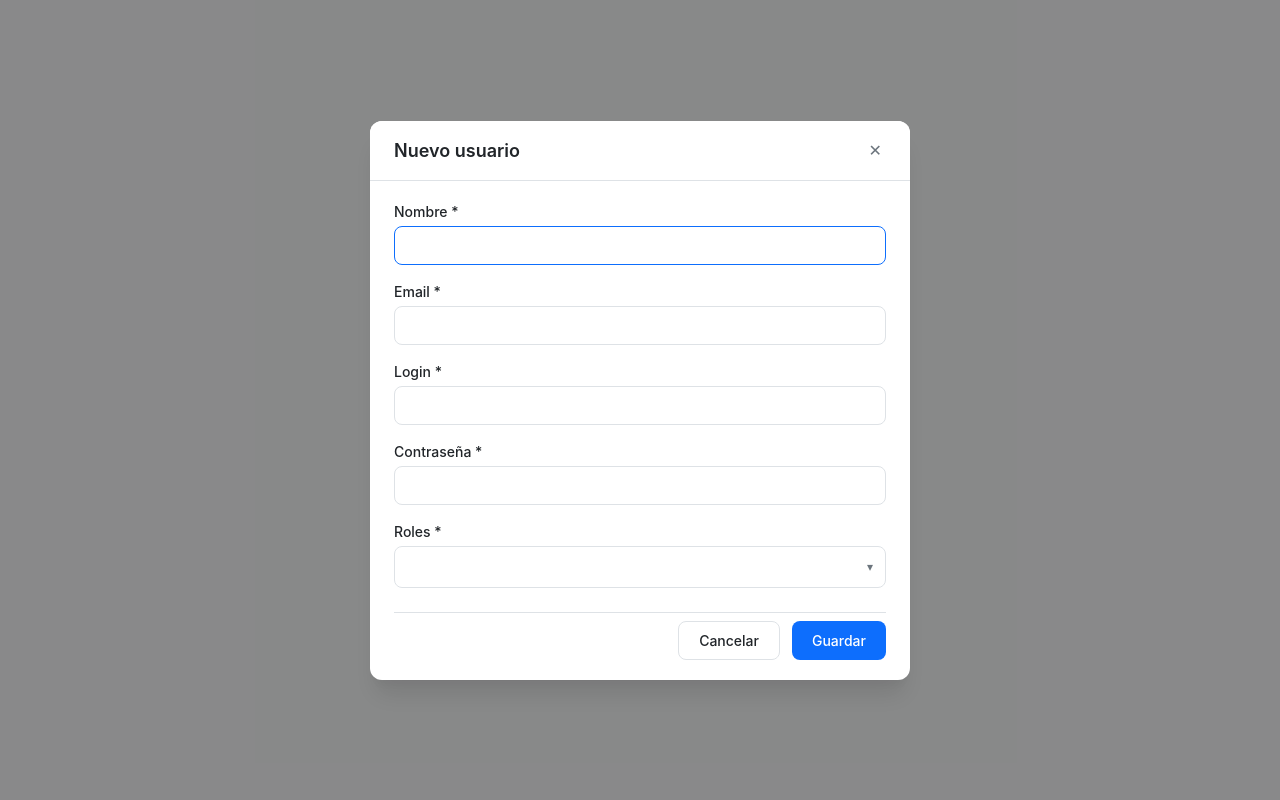
Test: RbacUserModal › falls back to the generic banner only when the backend sends no message
Type "Juan Mosca" into the field labelled "Nombre *" at (640, 245), box [394,226,886,264]
Type "juanmosca@ipnext.net.ar" into the field labelled "Email *" at (640, 325), box [394,306,886,344]
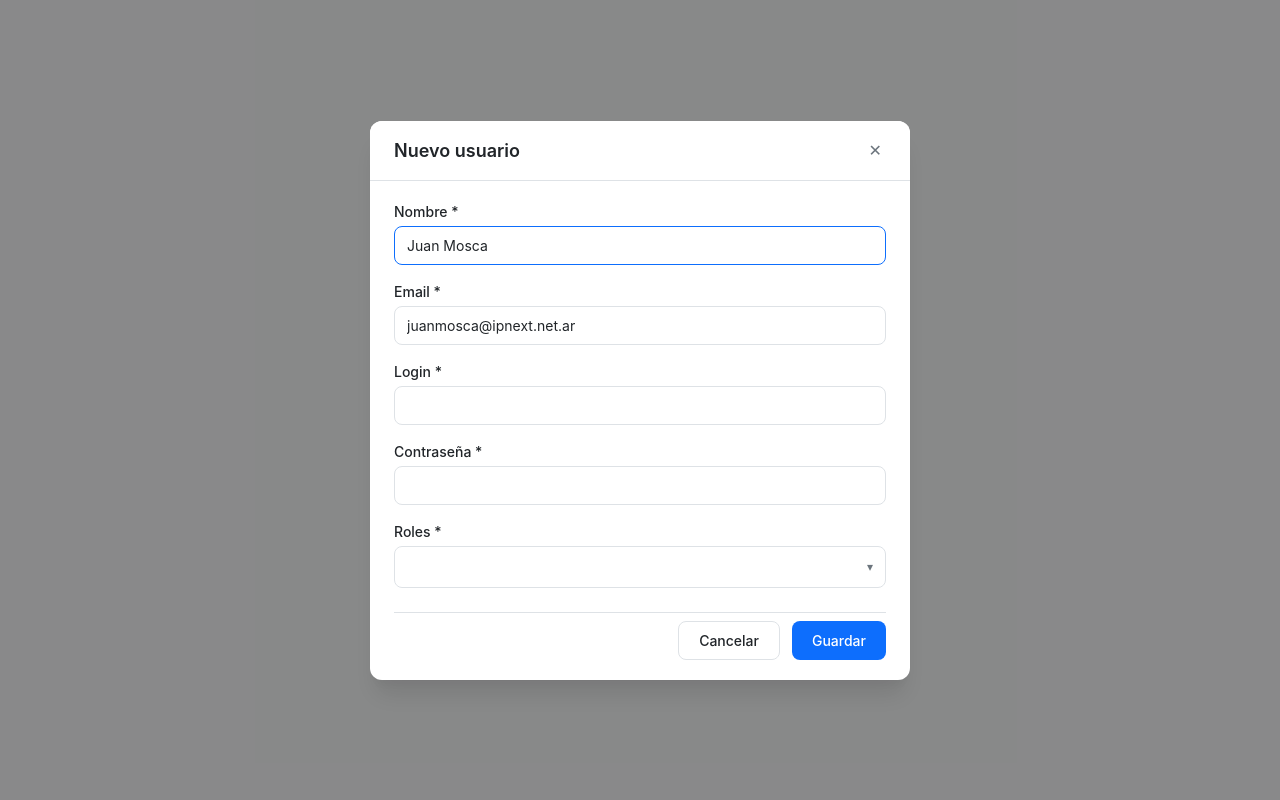
Type "JuanM" into the field labelled "Login *" at (640, 405), box [394,386,886,424]
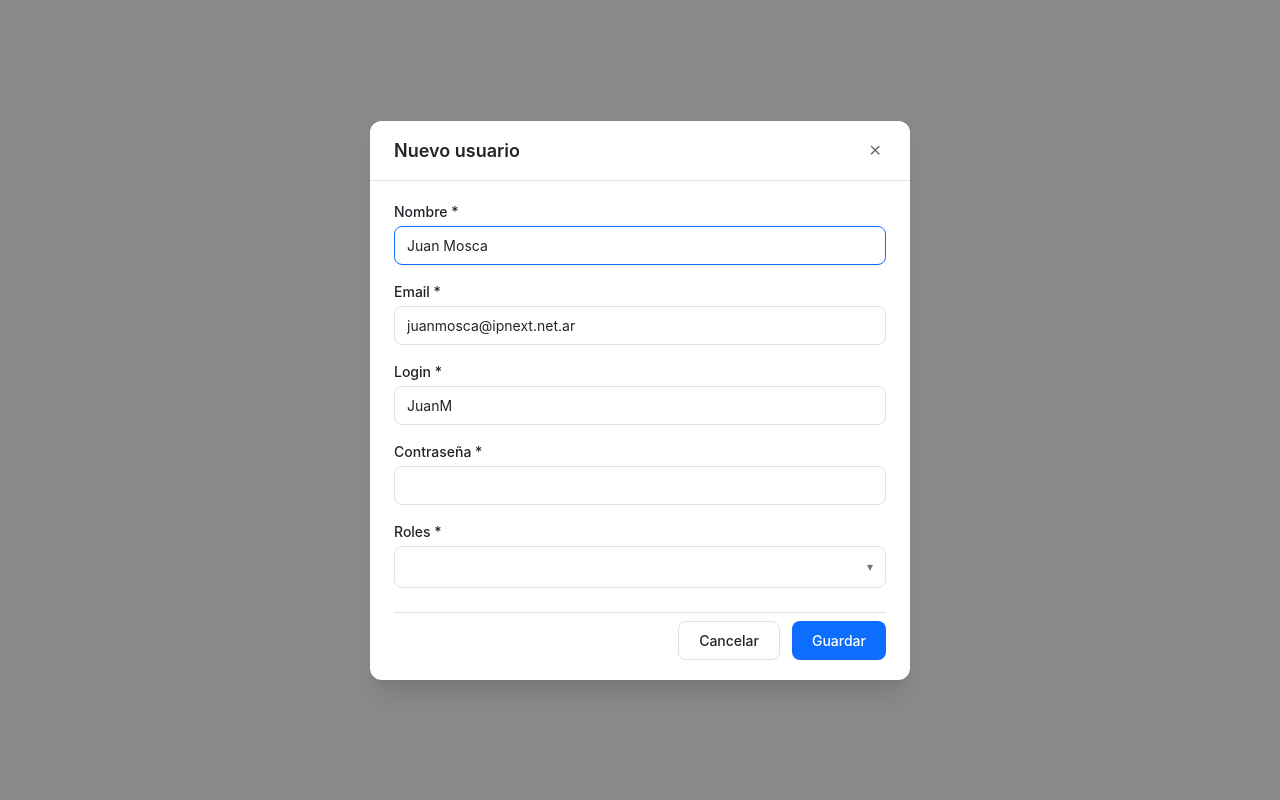
Type "Password123" into the password field labelled "Contraseña *" at (640, 485), box [394,466,886,504]
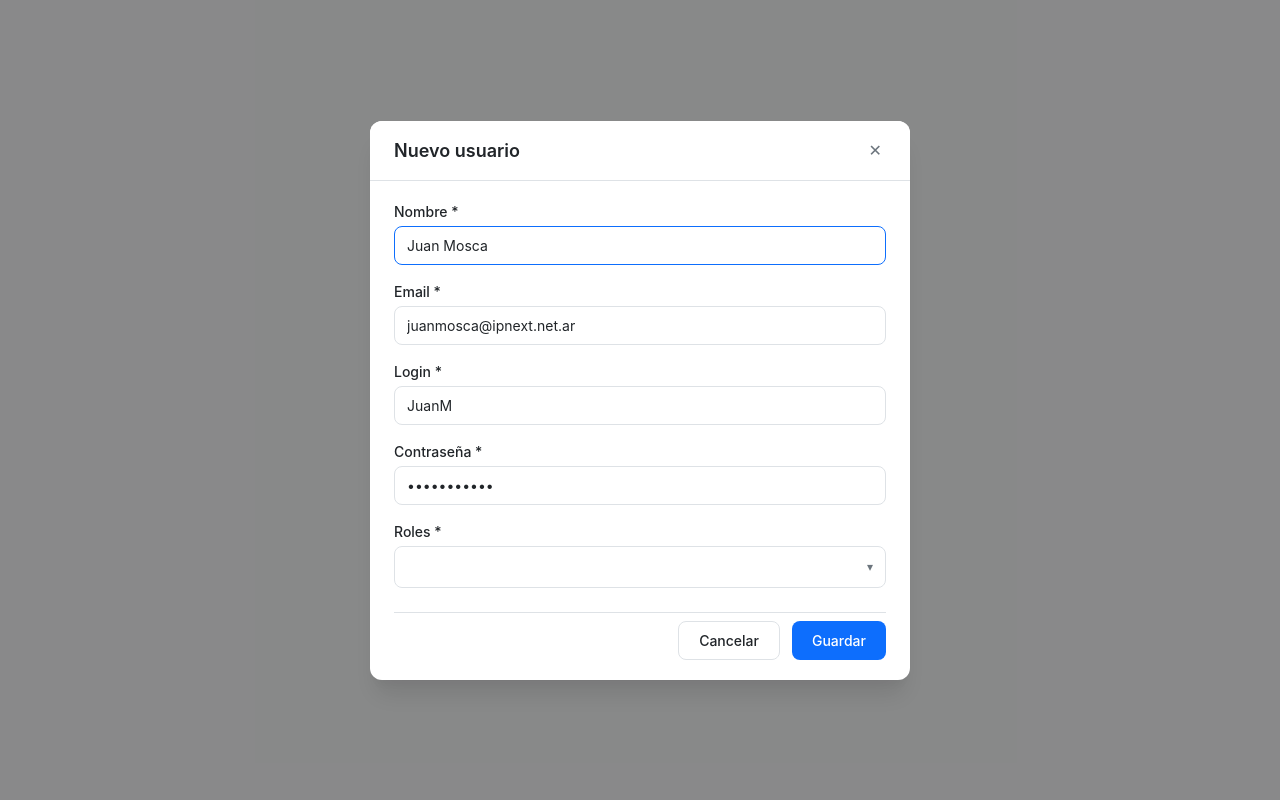
Click the button named "seleccionar roles" at (870, 566), box [863,558,877,576]
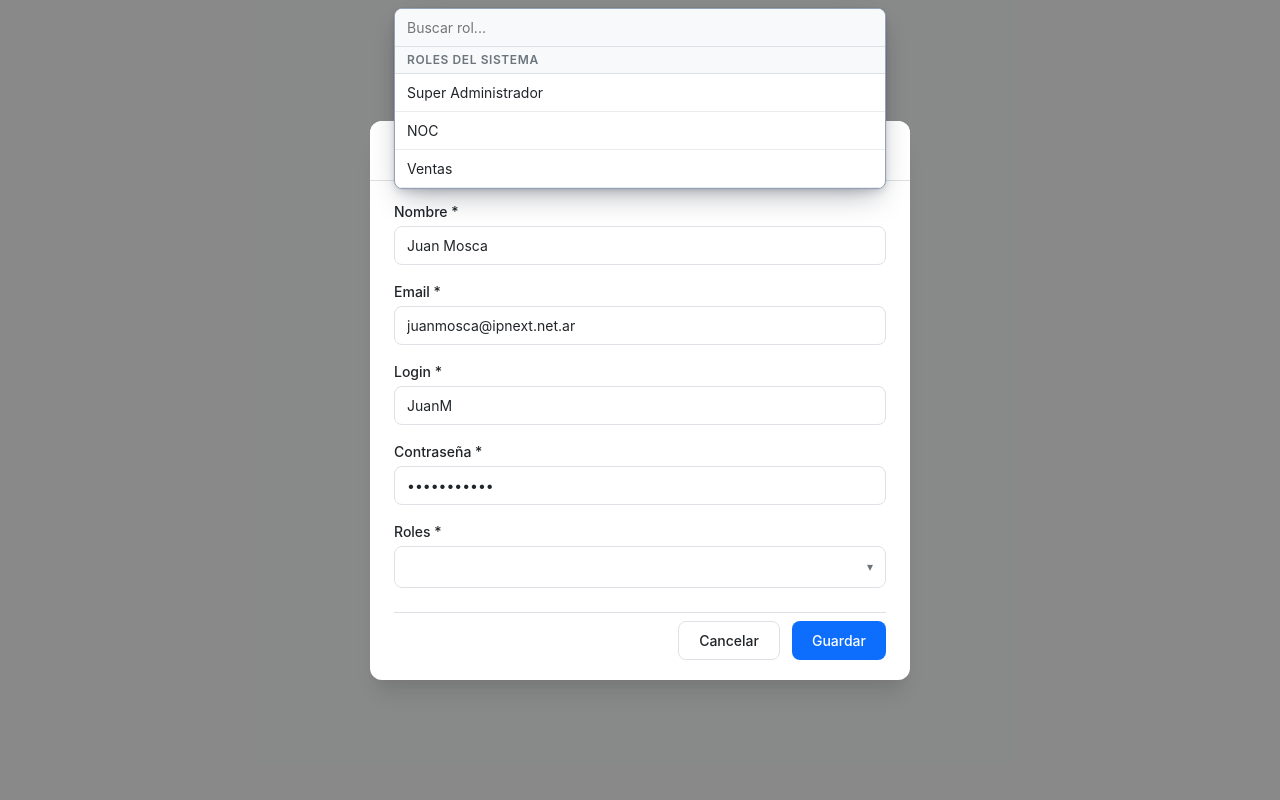
Click the option "NOC" at (423, 130), box [395,112,885,150]
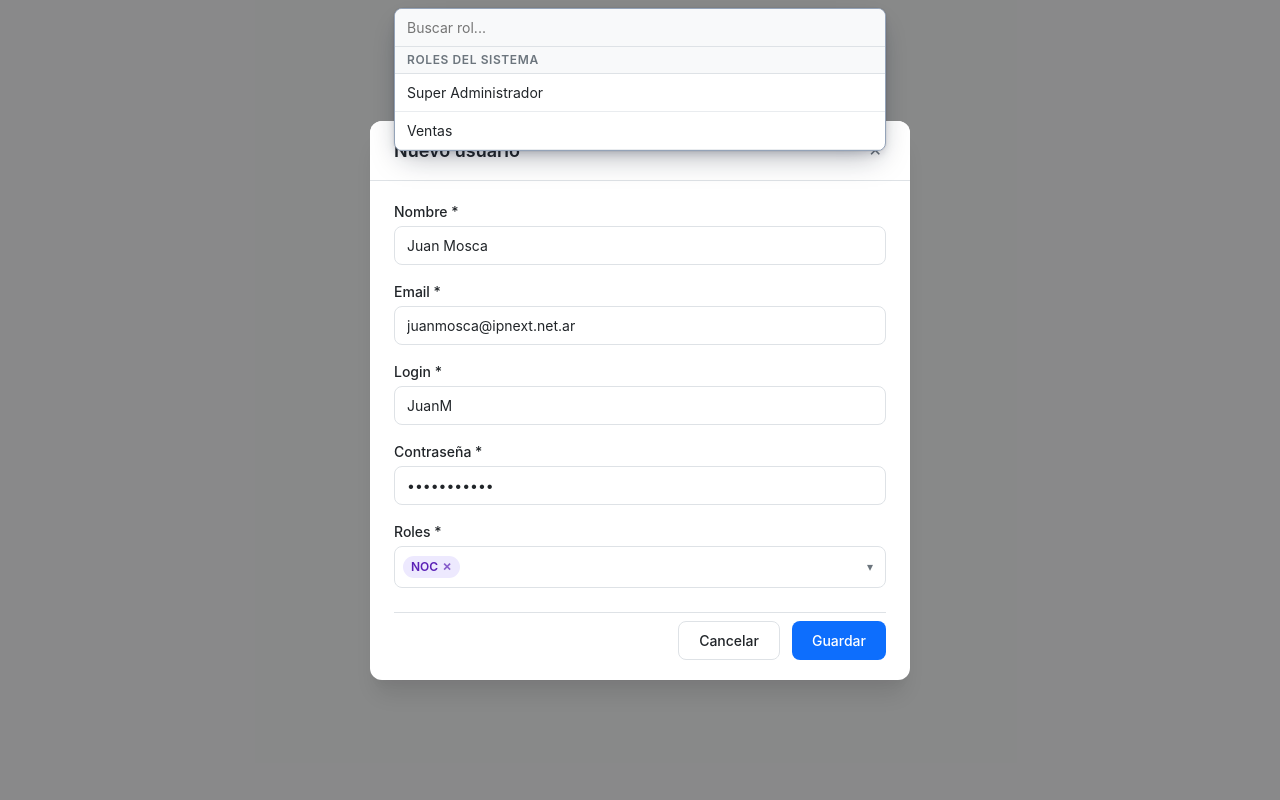
Click the button "Guardar" at (839, 640), box [792,620,886,660]
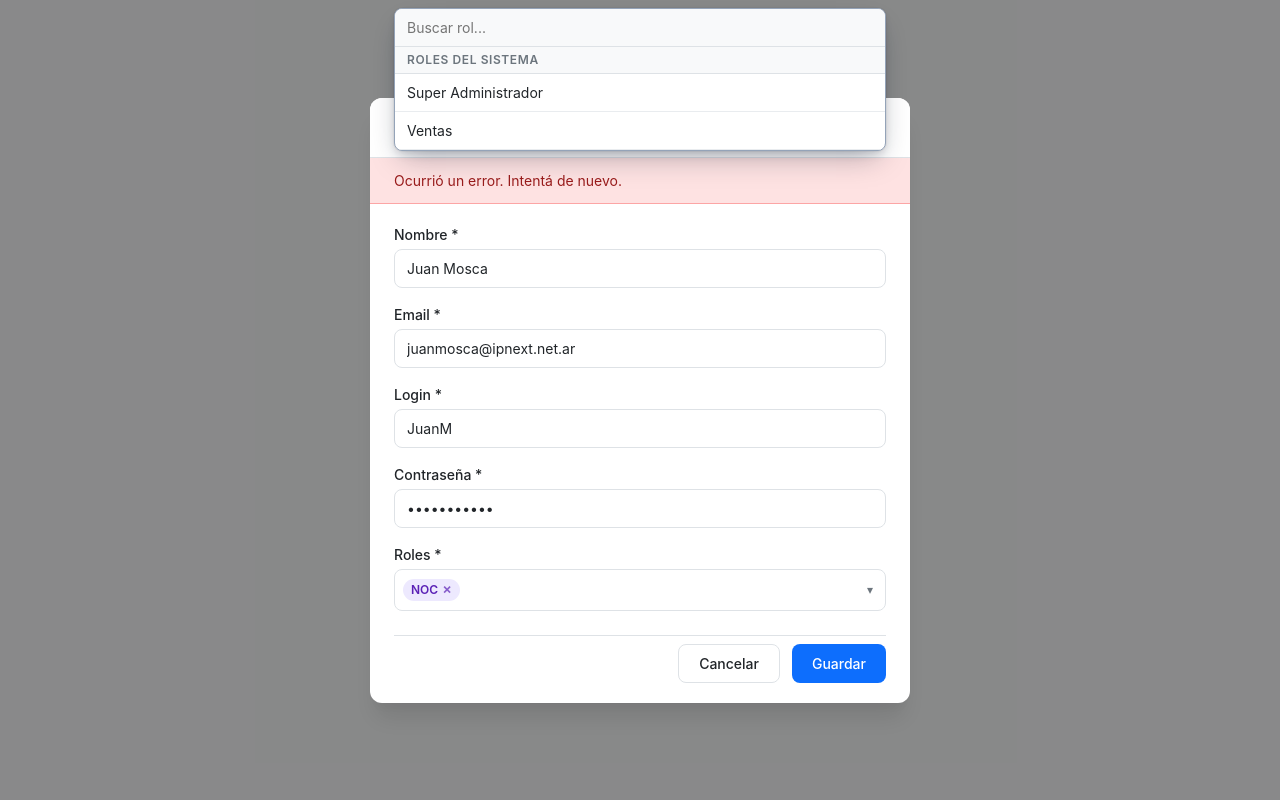
Now the text "Ocurrió un error. Intentá de nuevo." is shown, box [370,158,910,204]
